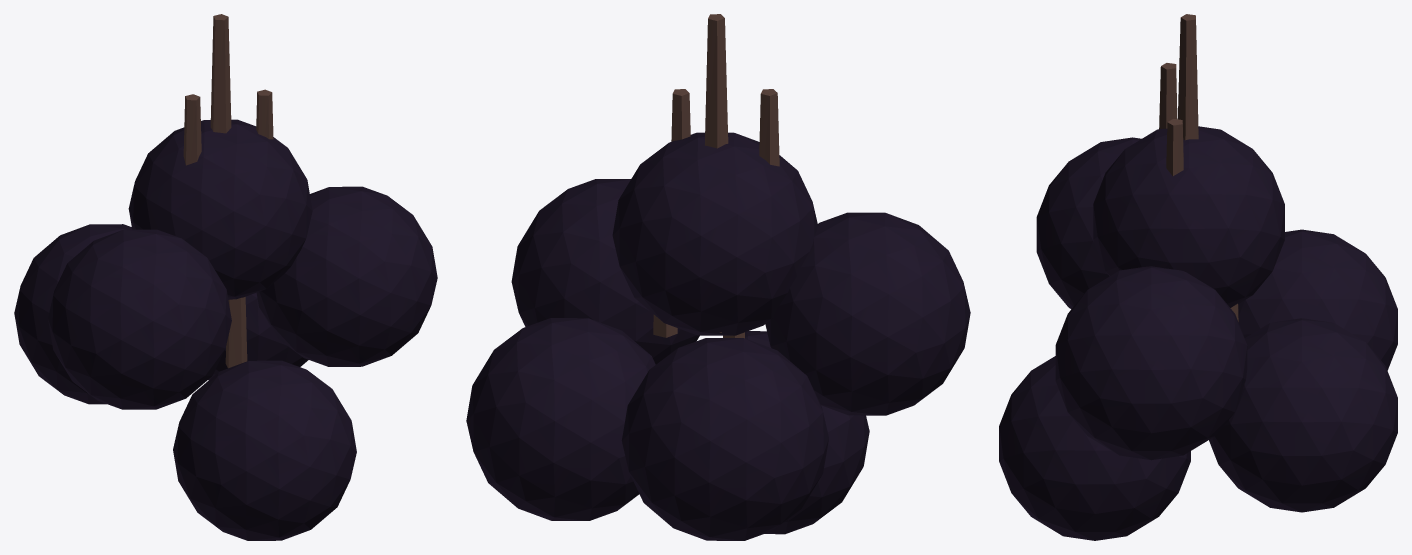
Rendered from aronia_cluster-XjhcrVJs.glb.
The picture shows the model from 3 angles, left to right: view 1: azimuth 30°, elevation 25°; view 2: azimuth 150°, elevation 25°; view 3: azimuth 270°, elevation 25°; orthographic projection. The views are drawn at different scales.
Parts seen in each view (by area): view 1: Aronia_melanocarpa_berry_cluster; view 2: Aronia_melanocarpa_berry_cluster; view 3: Aronia_melanocarpa_berry_cluster.
Part boxes in pixels (x1=…): Aronia_melanocarpa_berry_cluster: x1=14, y1=14, x2=437, y2=540; Aronia_melanocarpa_berry_cluster: x1=466, y1=14, x2=970, y2=540; Aronia_melanocarpa_berry_cluster: x1=999, y1=14, x2=1397, y2=540.
Size of the model in its own units: 0.0242 by 0.0301 by 0.0212.
